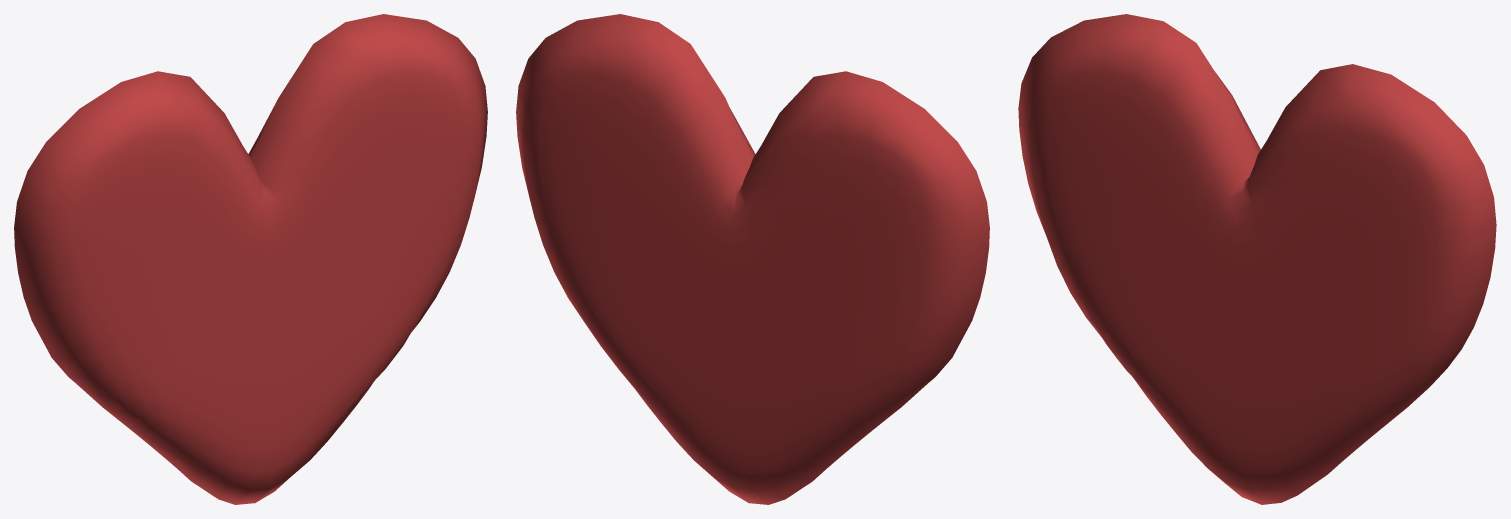
File: heart.fbx
The picture shows the model from 3 angles, left to right: view 1: azimuth 30°, elevation 25°; view 2: azimuth 150°, elevation 25°; view 3: azimuth 330°, elevation 25°; orthographic projection.
Visible parts, largest first — view 1: pCube1; view 2: pCube1; view 3: pCube1.
Part boxes in pixels (x1,y1,x2,y2): pCube1: [14, 14, 487, 504]; pCube1: [516, 14, 989, 504]; pCube1: [1018, 14, 1496, 504].
Size of the model in its own units: 29.95 by 27.72 by 4.39.
